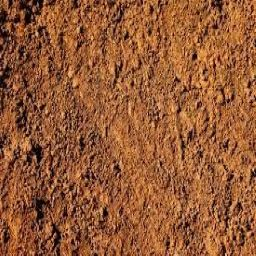dirt: (2, 4, 249, 250)
